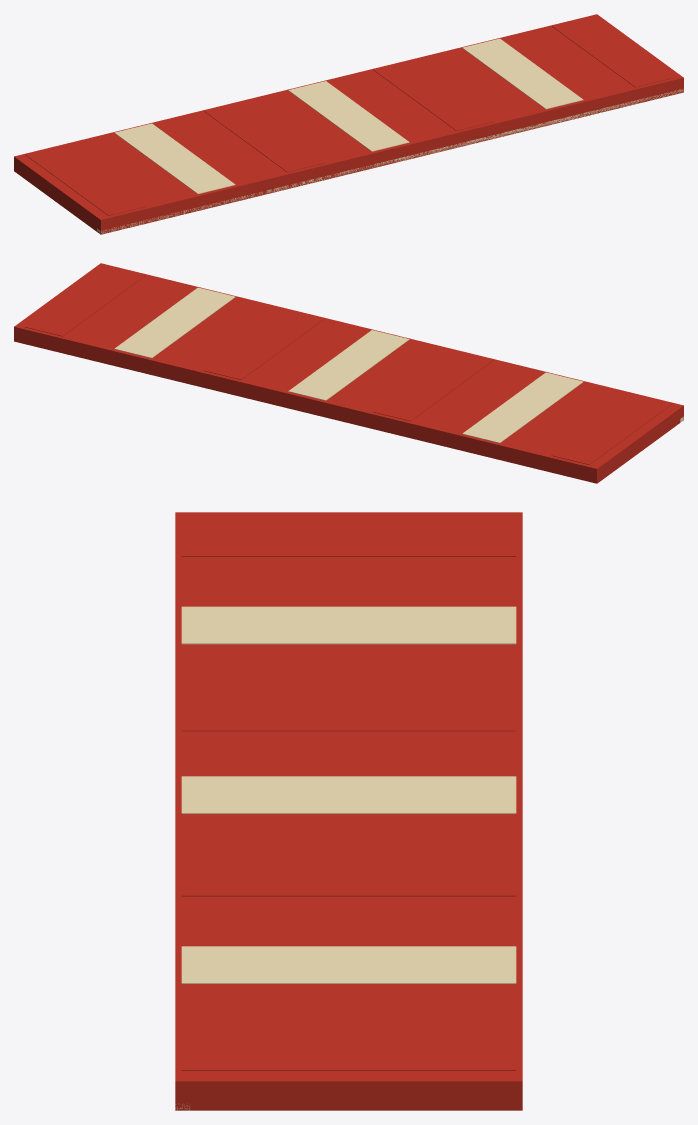
File: AWNING_12X3_BAY.obj
The picture shows the model from 3 angles, top to bottom: view 1: azimuth 30°, elevation 25°; view 2: azimuth 150°, elevation 25°; view 3: azimuth 270°, elevation 25°; orthographic projection. The views are drawn at different scales.
Parts seen in each view (by area): view 1: AWNING_12X3_BAY; view 2: AWNING_12X3_BAY; view 3: AWNING_12X3_BAY.
Boxes of the visible parts, x1,y1,x2,y2 form: AWNING_12X3_BAY: [14, 14, 683, 234]; AWNING_12X3_BAY: [14, 263, 683, 483]; AWNING_12X3_BAY: [175, 512, 522, 1110].
Bounding box in the file's own units: 12.4 × 0.32 × 3.2.
